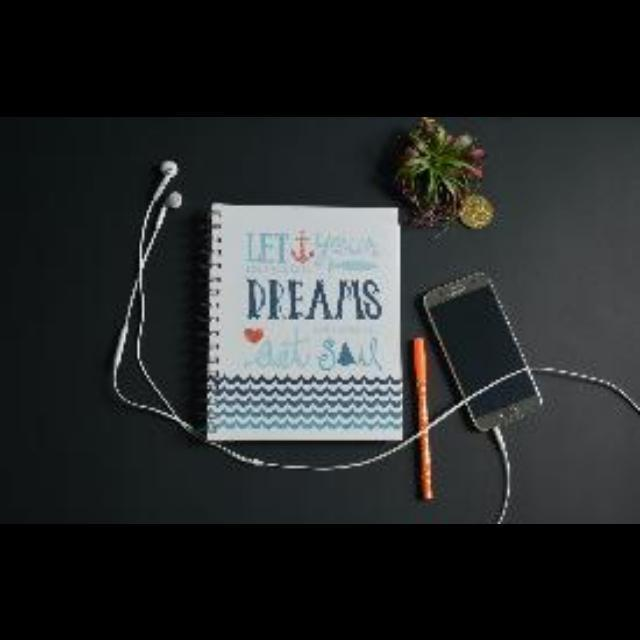phone: (410, 269, 560, 447)
